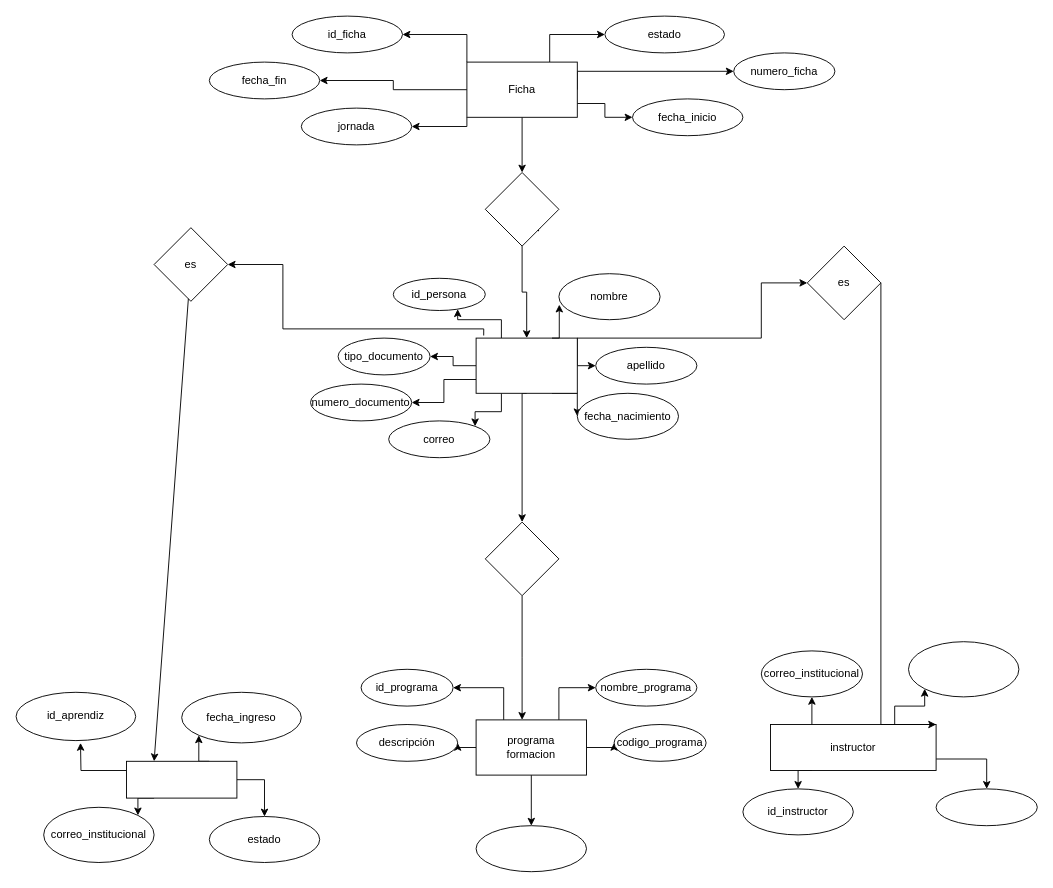
The diagram is 1053 pixels wide and 888 high, and some of its shapes have lost their labels. Each missing label, with the box of its shape:
aprendiz: (126, 760, 237, 798)
asignado a: (484, 172, 559, 246)
duración_horas: (475, 825, 586, 872)
especialidad: (935, 788, 1037, 826)
fecha_vinculación: (908, 641, 1019, 697)
persona: (475, 337, 577, 393)
pertenece a: (484, 521, 559, 596)
